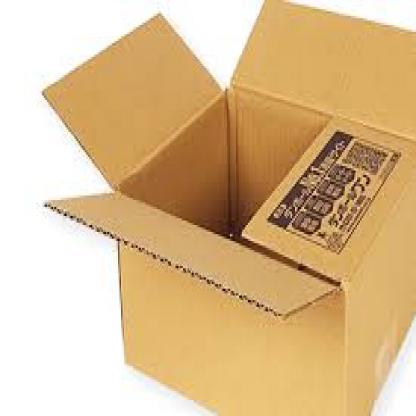CARDBOARD: (39, 0, 414, 414)
